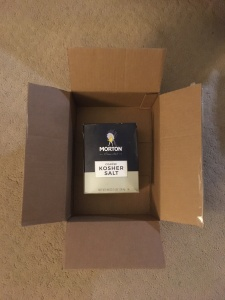innerbox: (68, 91, 160, 223)
outerbox: (25, 48, 202, 269)
product: (82, 123, 139, 194)
